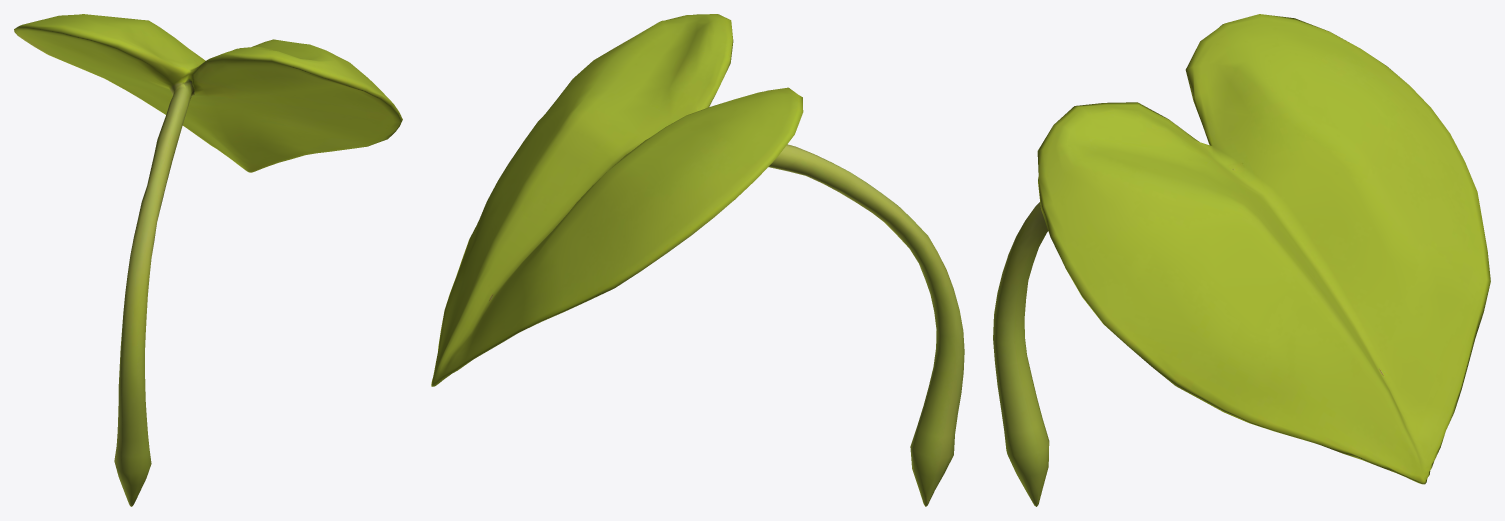
File: monstera_leaf_mid2.glb
The picture shows the model from 3 angles, left to right: view 1: azimuth 30°, elevation 25°; view 2: azimuth 150°, elevation 25°; view 3: azimuth 270°, elevation 25°; orthographic projection. The views are drawn at different scales.
Parts seen in each view (by area): view 1: tripo_node_42b3a434-74ea-4809-adca-7140d944601e; view 2: tripo_node_42b3a434-74ea-4809-adca-7140d944601e; view 3: tripo_node_42b3a434-74ea-4809-adca-7140d944601e.
Part boxes in pixels (box(x1,y1,x2,y2)): tripo_node_42b3a434-74ea-4809-adca-7140d944601e: box(14, 14, 402, 506); tripo_node_42b3a434-74ea-4809-adca-7140d944601e: box(431, 14, 964, 506); tripo_node_42b3a434-74ea-4809-adca-7140d944601e: box(993, 14, 1490, 506).
Size of the model in its own units: 0.8527 by 0.9951 by 0.8866.
Materials: 1 (1 with a texture image).
